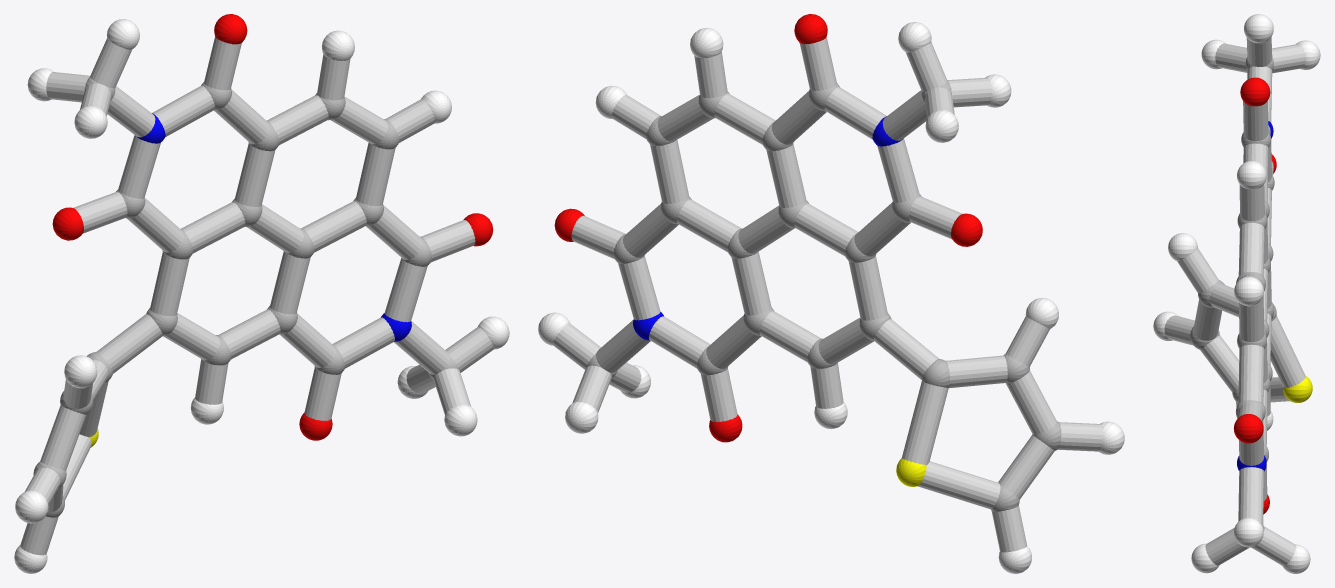
File: Dimethyl_Naphthalene_Dicarboximide_Phi_30_Theta_320_Thiophene.glb
The picture shows the model from 3 angles, left to right: view 1: azimuth 30°, elevation 25°; view 2: azimuth 150°, elevation 25°; view 3: azimuth 270°, elevation 25°; orthographic projection. The views are drawn at different scales.
Parts seen in each view (by area): view 1: grp14119, grp7241, grp1, grp12309, grp11585; view 2: grp14119, grp7241, grp1, grp12309, grp11585; view 3: grp14119, grp7241, grp1, grp12309, grp13757, grp11585.
Part boxes in pixels (x1,y1,x2,y2): grp14119: [20, 36, 493, 555]; grp7241: [14, 19, 509, 573]; grp1: [33, 77, 458, 517]; grp12309: [52, 14, 493, 440]; grp11585: [135, 113, 411, 341]; grp14119: [553, 37, 1102, 552]; grp7241: [538, 22, 1124, 573]; grp1: [586, 81, 1061, 511]; grp12309: [554, 14, 982, 442]; grp11585: [633, 116, 902, 340]; grp14119: [1164, 37, 1305, 565]; grp7241: [1153, 14, 1320, 573]; grp1: [1190, 57, 1276, 547]; grp12309: [1233, 77, 1276, 514]; grp13757: [1283, 376, 1312, 402]; grp11585: [1237, 121, 1273, 471].
Bounding box in the file's own units: 11.13 × 10.46 × 3.35.
